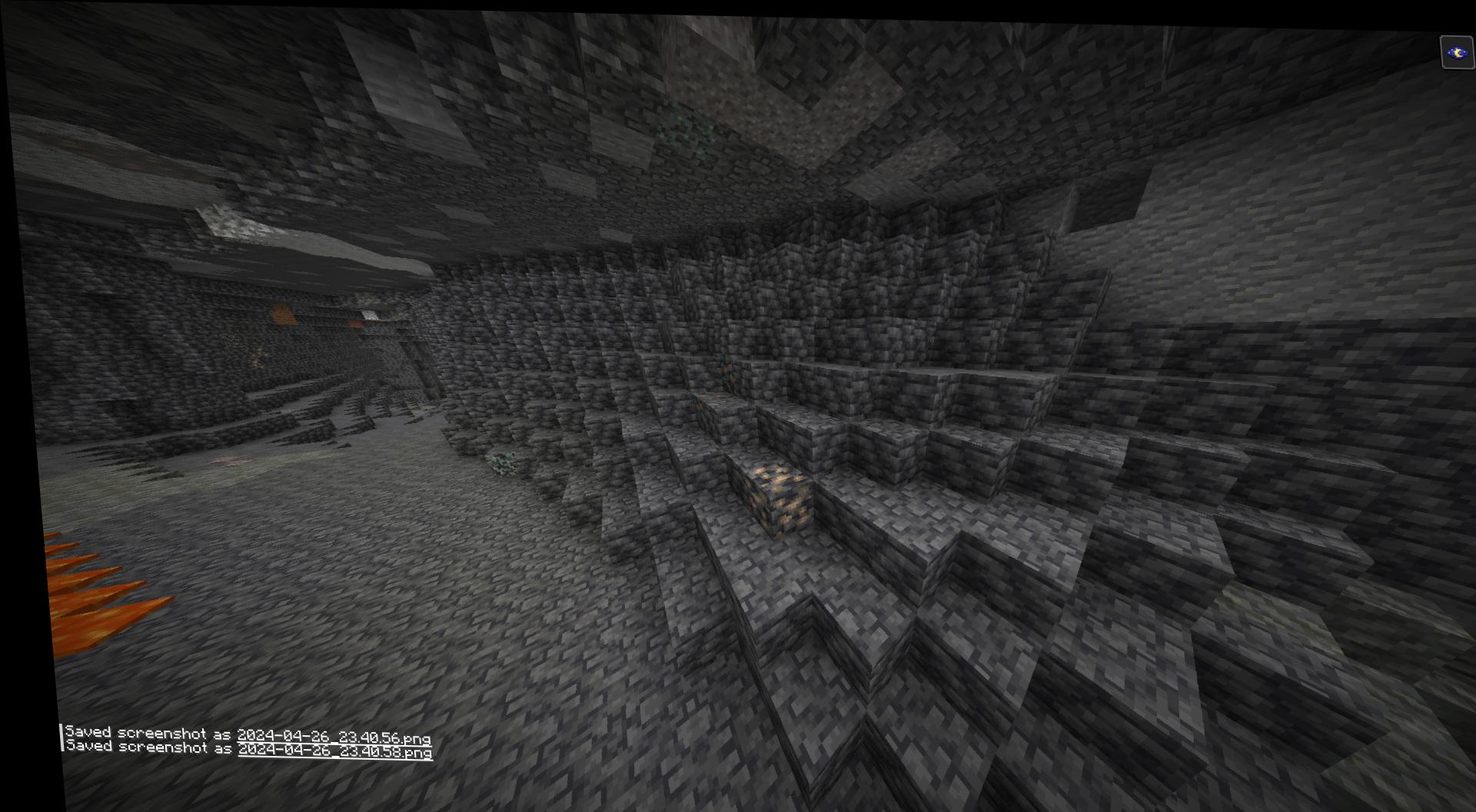iron ore: (738, 458, 807, 535), (235, 344, 265, 370)
